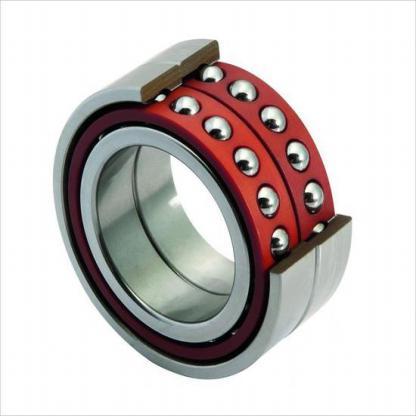FOD: (45, 31, 355, 386)
